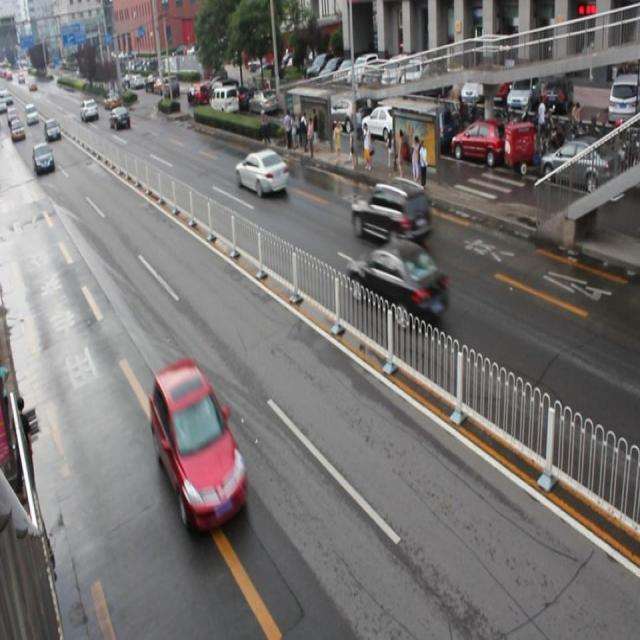car: (149, 363, 247, 532), (346, 242, 449, 329), (350, 179, 433, 246), (234, 150, 288, 197)
